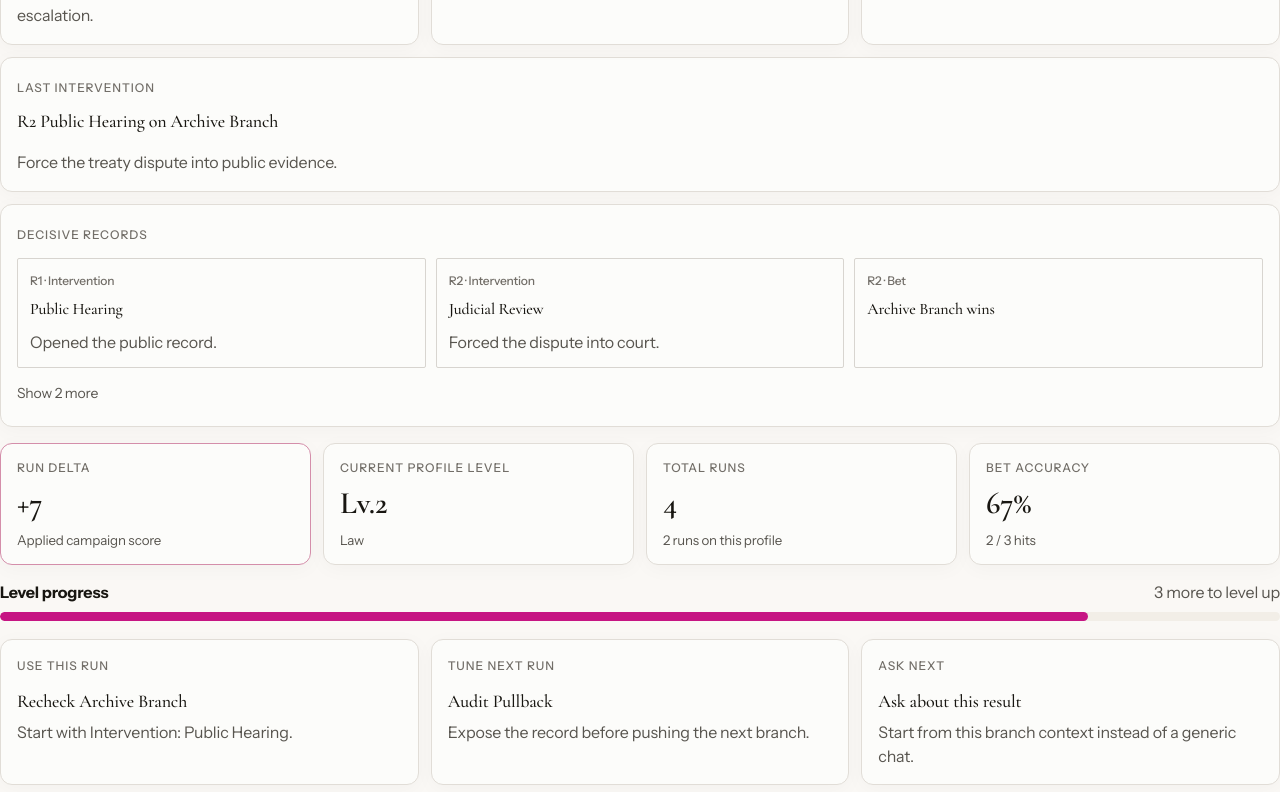
Test: DirectorDebriefPanel › shows first 3 moments and hides rest in disclosure
(page scrolled)
Expected: the element with class "director-debrief__moments" is shown, x1=0 y1=204 x2=1279 y2=427
Expected: the list is shown, x1=17 y1=258 x2=1263 y2=368
Click the heading "Show 2 more": (58, 393) x1=17 y1=384 x2=98 y2=402
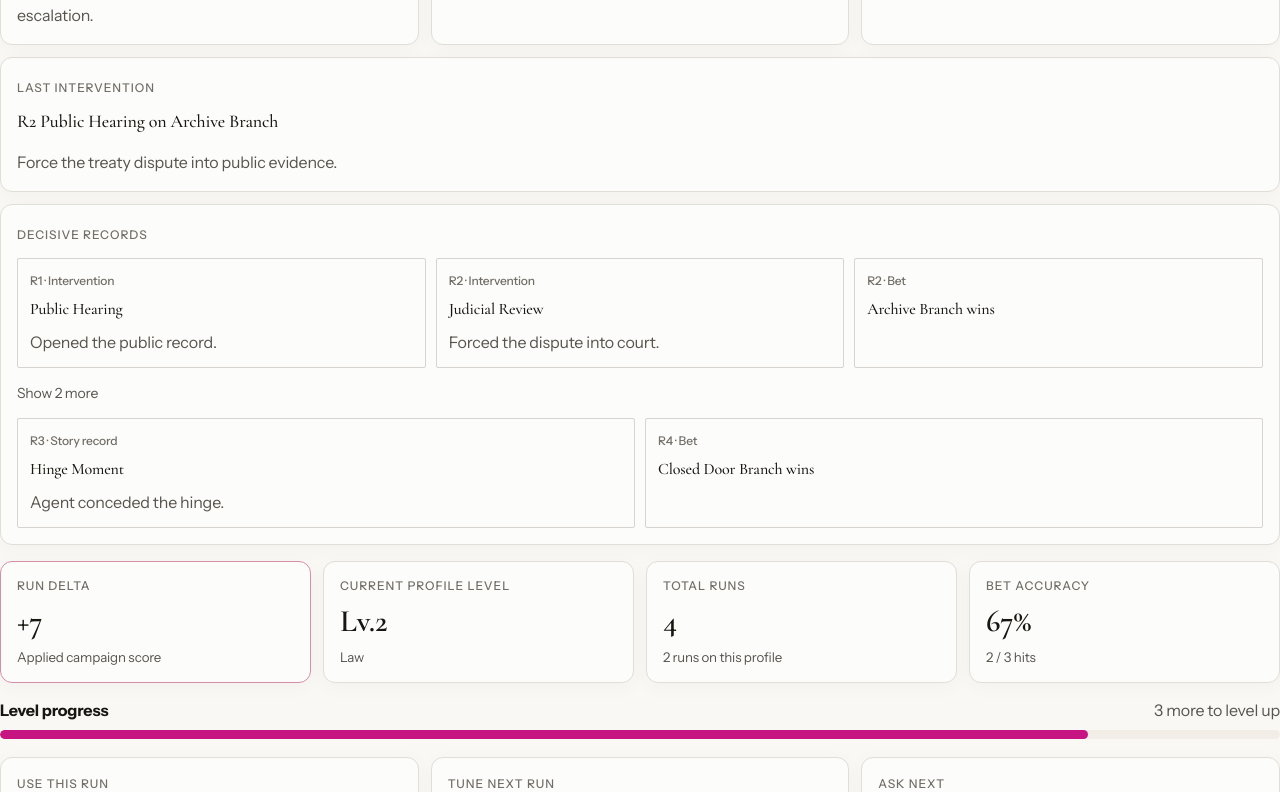
Expected: the text "Hinge Moment" is shown, x1=30 y1=459 x2=124 y2=479
Expected: the text "Closed Door Branch wins" is shown, x1=658 y1=459 x2=814 y2=479
